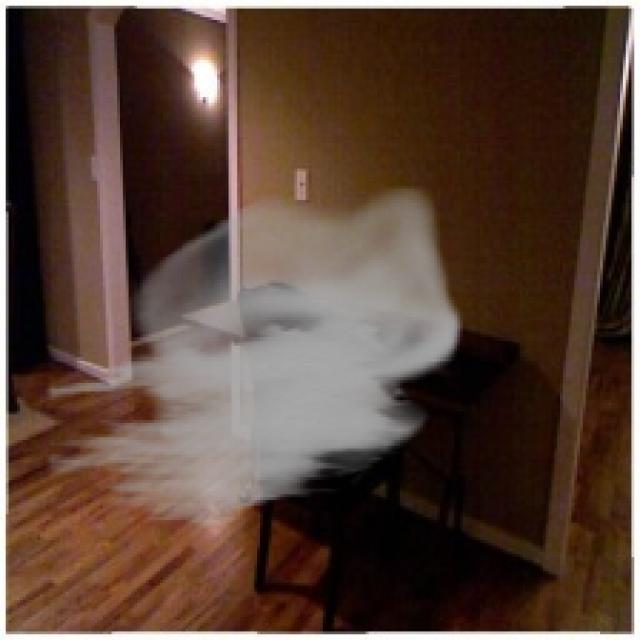smoke: (46, 186, 463, 531)
